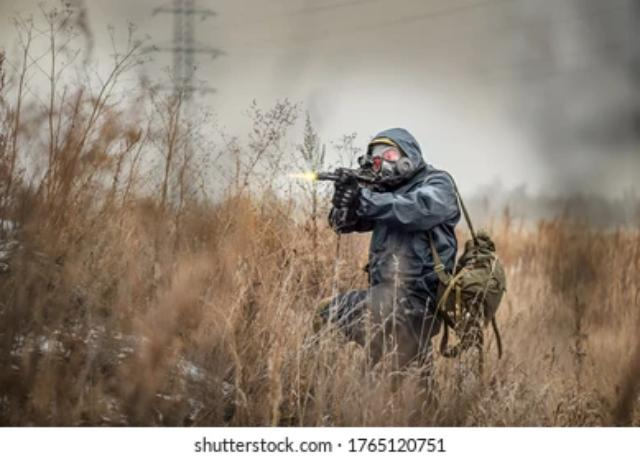other: (330, 132, 454, 348)
